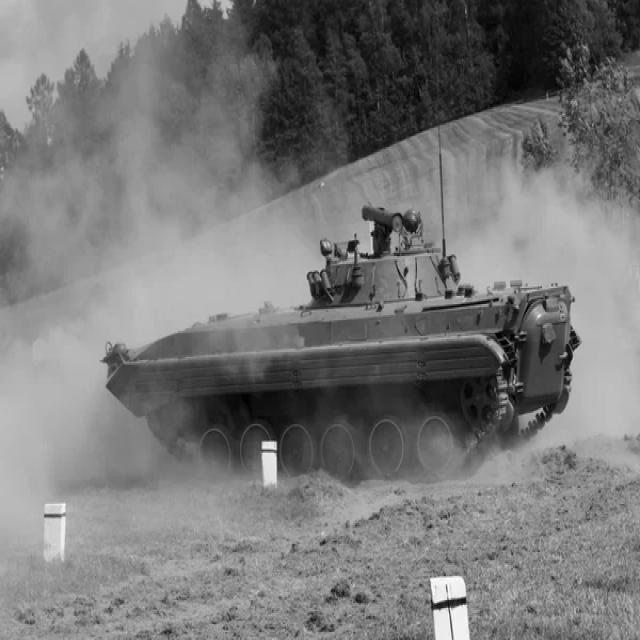Tank: (99, 194, 581, 488)
